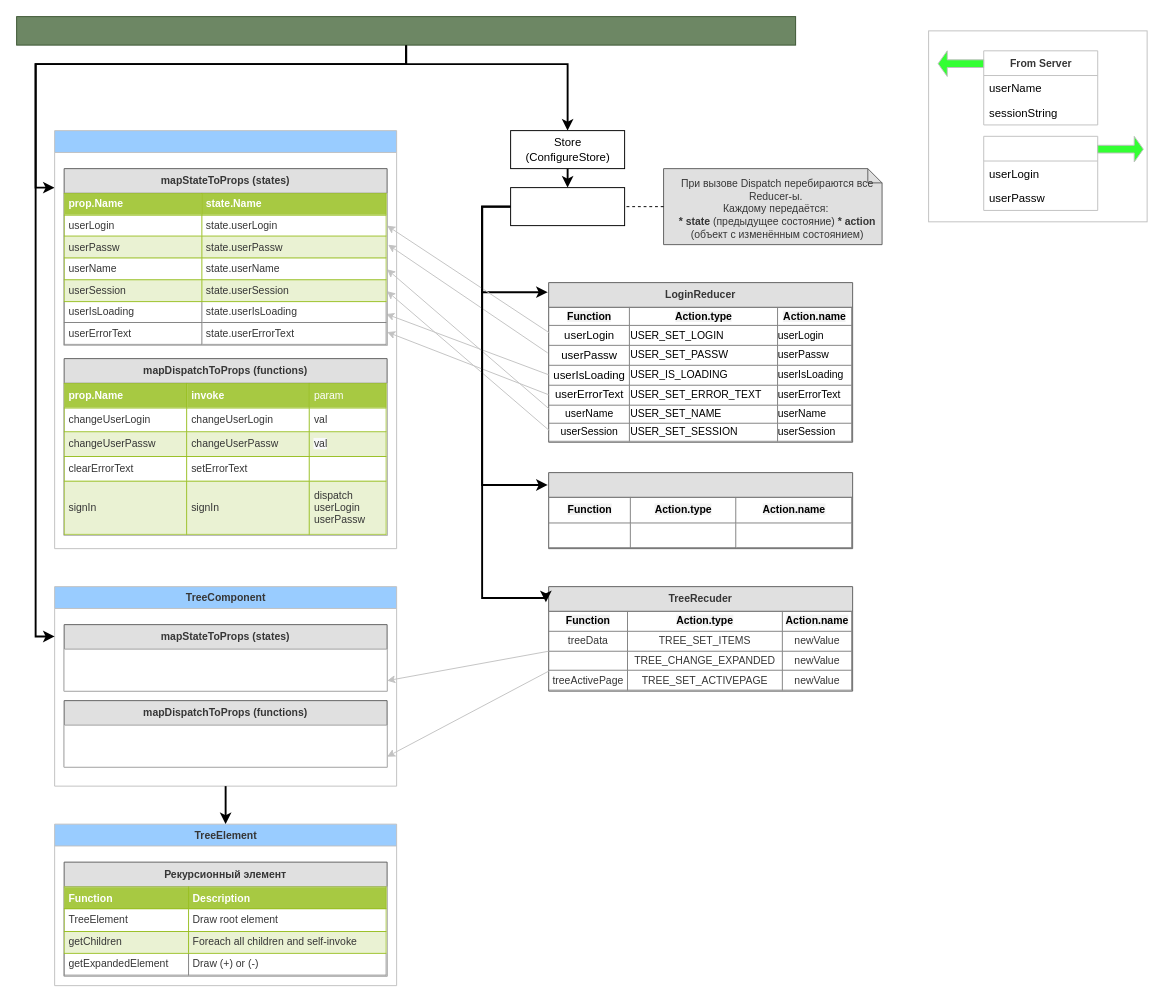
Some shapes in this 1164 by 1002 pixel diagram are drawn without their labels. Each missing label, with the box of its shape:
App: (16, 16, 796, 45)
LoginComponent: (54, 130, 397, 549)
PageListRecuder: (548, 472, 853, 549)
prop.Name invoke param changeExpand setTreeExpanded id, value: (63, 724, 387, 767)
prop.Name state.Name treeData state.treeData: (63, 648, 387, 691)
RootReducer (CombineReducers): (510, 187, 625, 226)
To Server: (983, 135, 1098, 210)
